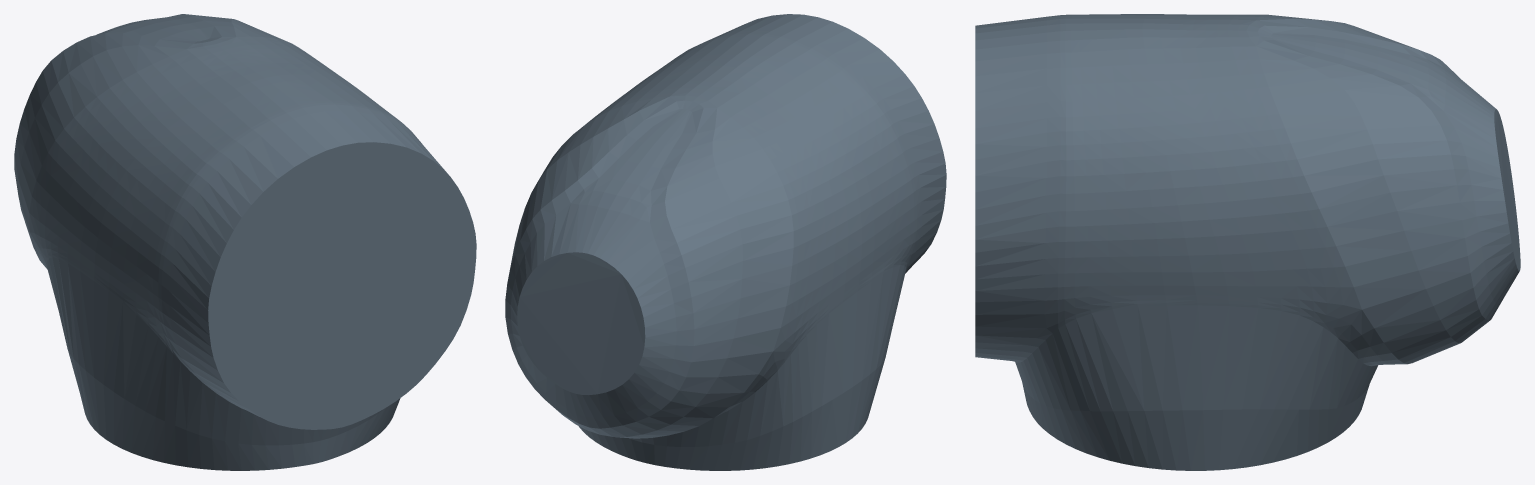
3 renders of one model, left to right at view 1: azimuth 30°, elevation 25°; view 2: azimuth 150°, elevation 25°; view 3: azimuth 270°, elevation 25°, orthographic. The views are drawn at different scales.
Visible parts, largest first — view 1: MF1509_4_1; view 2: MF1509_4_1; view 3: MF1509_4_1.
Boxes of the visible parts, bbox=[...] form: MF1509_4_1: bbox=[14, 14, 476, 470]; MF1509_4_1: bbox=[505, 14, 946, 470]; MF1509_4_1: bbox=[975, 14, 1520, 470].
Size of the model in its own units: 108 by 164 by 123.
